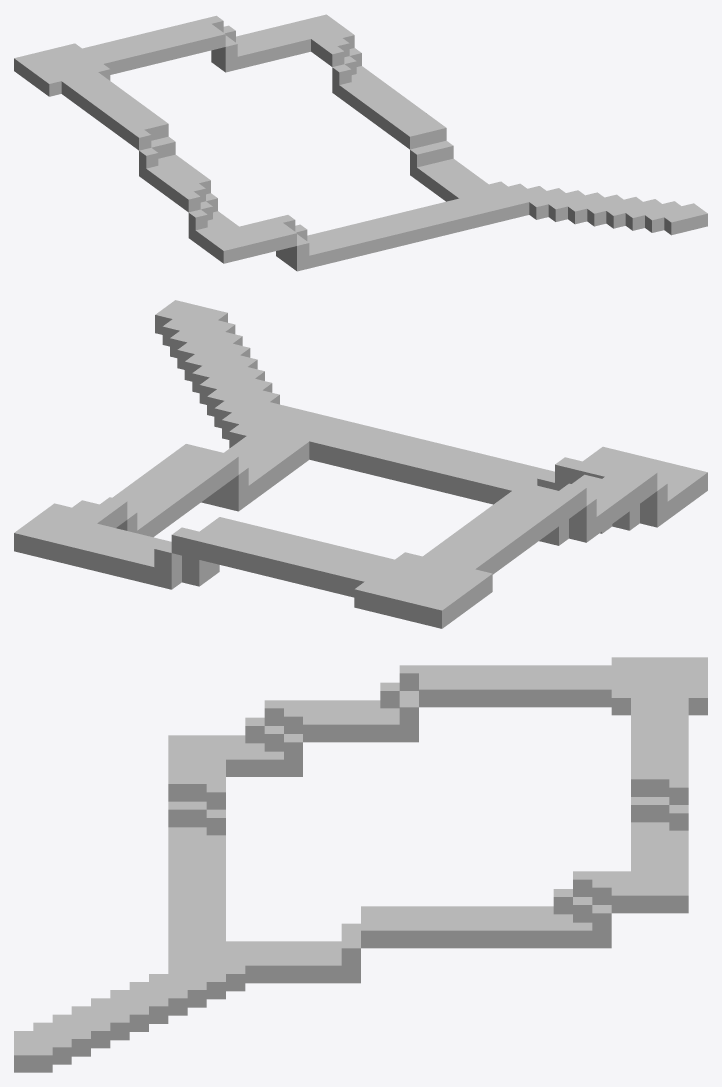
The model's file is road.obj.
The picture shows the model from 3 angles, top to bottom: view 1: azimuth 30°, elevation 25°; view 2: azimuth 150°, elevation 25°; view 3: azimuth 270°, elevation 25°; orthographic projection. The views are drawn at different scales.
Size of the model in its own units: 3.6 by 0.7 by 3.6.
1 material, 1 textured.
